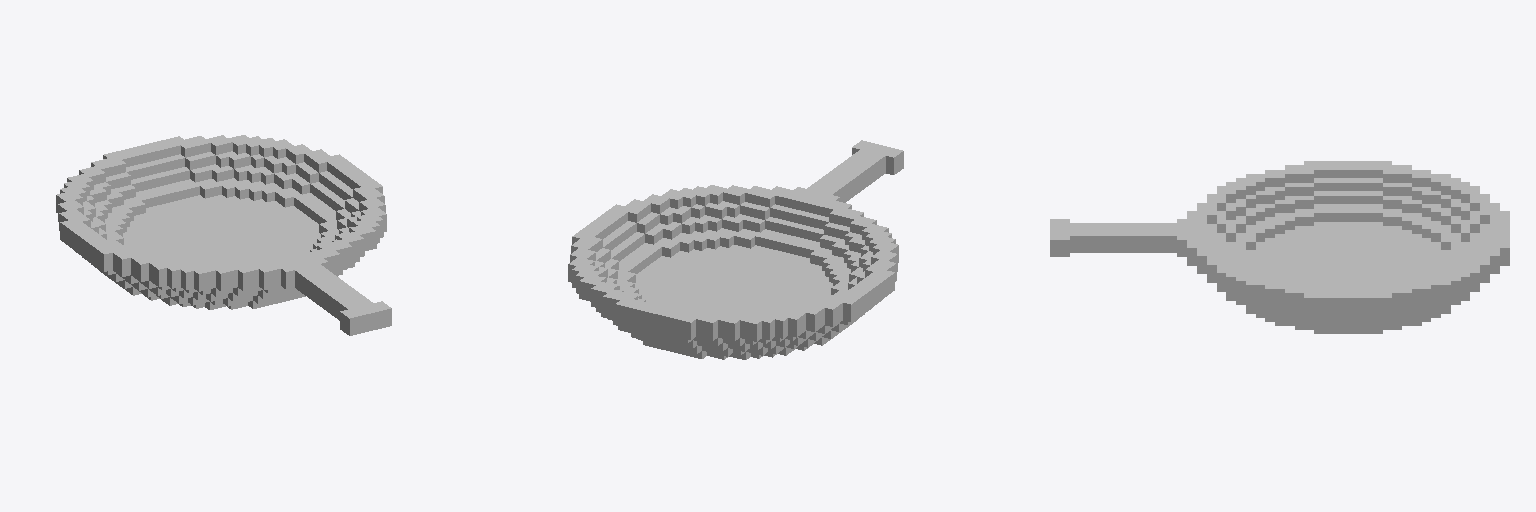
The model's file is pan.obj.
3 views of the same model, side by side, from view 1: azimuth 30°, elevation 25°; view 2: azimuth 150°, elevation 25°; view 3: azimuth 270°, elevation 25° (orthographic).
Visible parts, largest first — view 1: object 1; view 2: object 1; view 3: object 1.
Boxes of the visible parts, <box> form: object 1: <box>56,135,391,335</box>; object 1: <box>568,140,903,359</box>; object 1: <box>1050,161,1509,333</box>.
Size of the model in its own units: 3.3 by 0.6 by 4.7.